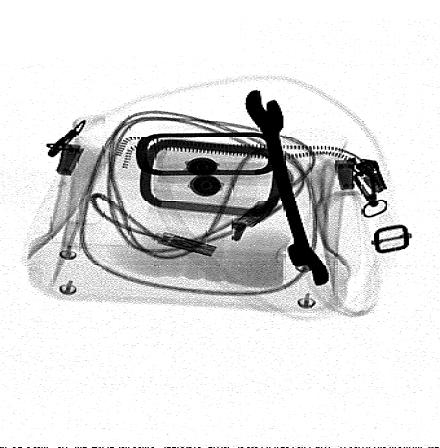Wrench: (244, 87, 331, 287)
